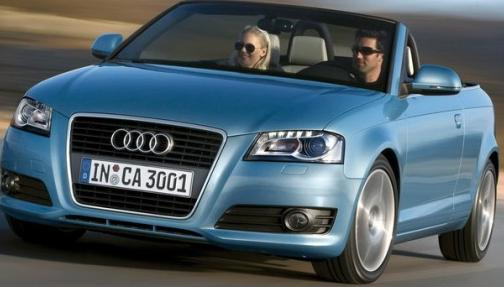front_view: (1, 83, 352, 254)
headlight: (250, 126, 348, 169)
